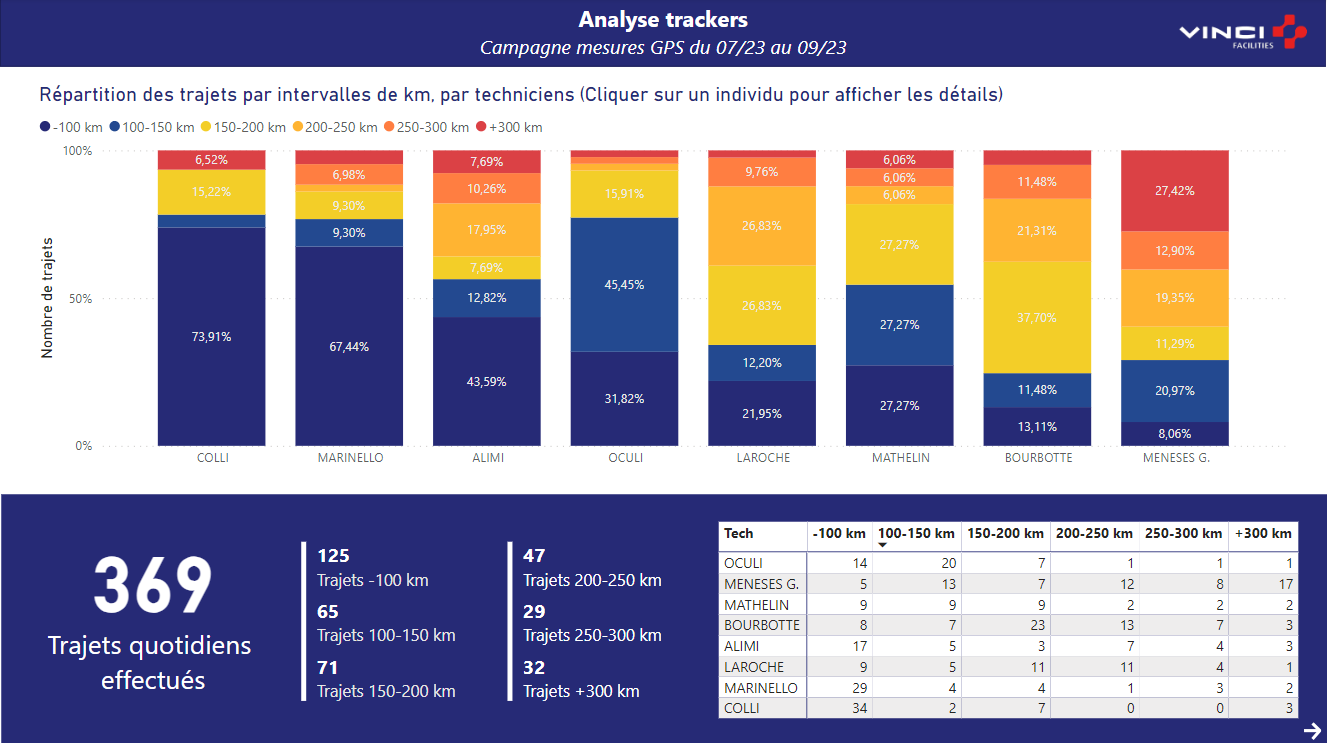

The page's visual inventory and layout, read from the dashboard file:
{"tool":"powerbi","page":{"name":"Analyse trackers","canvas":[1280,720],"ordinal":2},"visuals":[{"type":"shape","box":[0,0,1279.6,66.3],"z":0},{"type":"textbox","box":[0,0,1279.6,66.3],"z":1000},{"type":"image","box":[1118,0,161.6,66.3],"z":2000},{"type":"shape","box":[0.9,478.8,1279.5,241.2],"z":3000},{"type":"pivotTable","title":"Trajets par tranche de km, par techniciens","fields":{"Rows":["Sheet1.nom"],"Values":["Sum(Sheet1.nb trajets -100 km)","Sum(Sheet1.nb trajets 100-150 km)","Sum(Sheet1.nb trajets 150-200 km)","Sum(Sheet1.nb trajets 200-250 km)","Sum(Sheet1.nb trajets 250-300 km)","Sum(Sheet1.nb trajets +300 km)"]},"box":[688.6,500.5,572.9,203.8],"z":4000},{"type":"hundredPercentStackedColumnChart","title":"Répartition des trajets par intervalles de km, par techniciens (Cliquer sur un individu pour afficher les détails)","fields":{"Category":["BDD.nom"],"Y":["Sum(BDD.nb trajets -100 km)","Sum(BDD.nb trajets 100-150 km)","Sum(BDD.nb trajets 150-200 km)","Sum(BDD.nb trajets 200-250 km)","Sum(BDD.nb trajets 250-300 km)","Sum(BDD.nb trajets +300 km)"]},"box":[32.5,82.5,1213.8,380],"z":5000},{"type":"card","fields":{"Values":["BDD.total trajets"]},"box":[32.8,436.3,230.5,271.3],"z":6000},{"type":"multiRowCard","fields":{"Values":["BDD.nb trajets -100 km","BDD.nb trajets 100-150 km","BDD.nb trajets 150-200 km"]},"box":[285.5,519.6,180.9,176.5],"z":7000},{"type":"multiRowCard","fields":{"Values":["BDD.nb trajets 200-250 km","BDD.nb trajets 250-300 km","BDD.nb trajets +300 km"]},"box":[485,519.6,180.9,176.5],"z":8000},{"type":"actionButton","box":[1252.7,694.5,26.4,25.5],"z":9000}]}

Visuals, with their boxes in screenshot pixels (x1, y1, x2, y2), scaled from the page's 1280x720 canvas onto the 1327x743 screenshot:
shape: bbox=[0, 0, 1326, 68]
textbox: bbox=[0, 0, 1326, 68]
image: bbox=[1159, 0, 1326, 68]
shape: bbox=[1, 494, 1326, 742]
"Trajets par tranche de km, par techniciens" pivotTable: bbox=[714, 516, 1308, 727]
"Répartition des trajets par intervalles de km, par techniciens (Cliquer sur un individu pour afficher les détails)" hundredPercentStackedColumnChart: bbox=[34, 85, 1292, 477]
card - BDD.total trajets: bbox=[34, 450, 273, 730]
multiRowCard - BDD.nb trajets -100 km x BDD.nb trajets 100-150 km: bbox=[296, 536, 484, 718]
multiRowCard - BDD.nb trajets 200-250 km x BDD.nb trajets 250-300 km: bbox=[503, 536, 690, 718]
actionButton: bbox=[1299, 717, 1326, 742]
